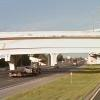Bridge: (3, 23, 98, 57)
